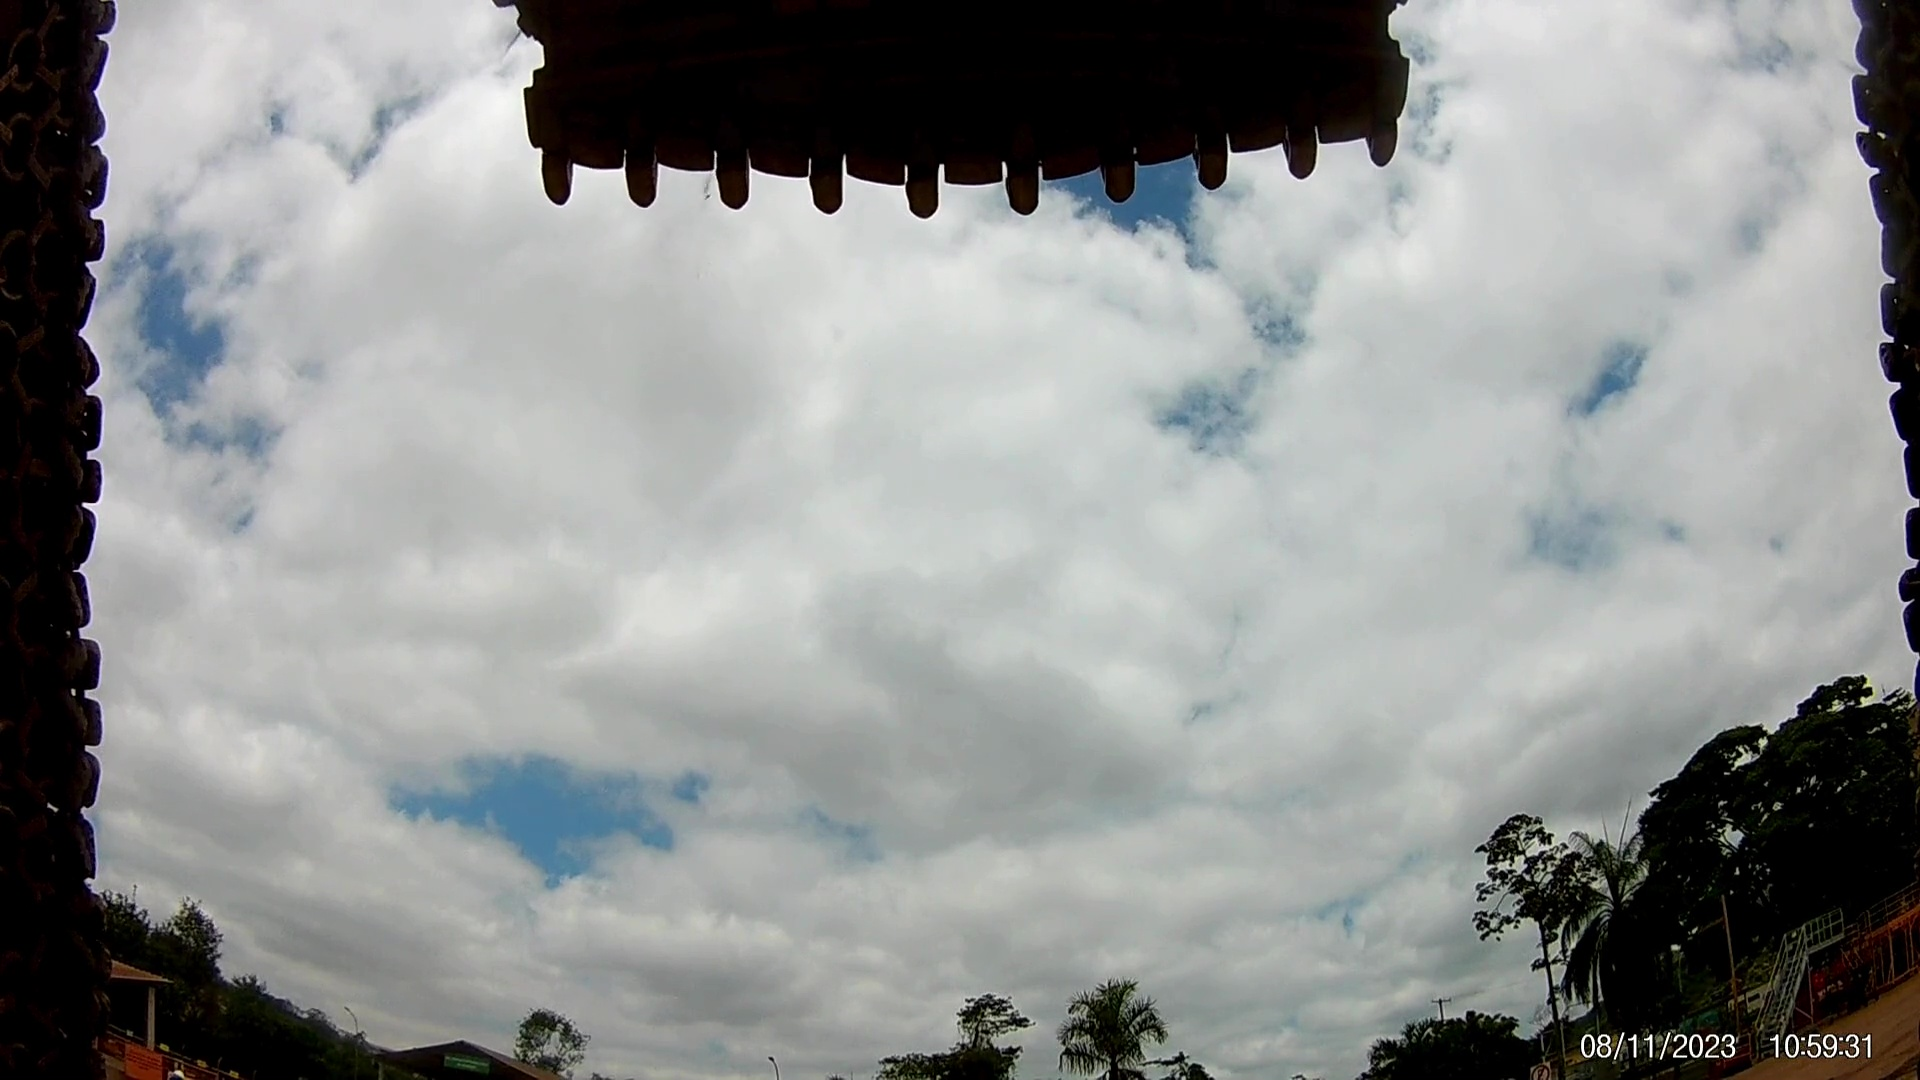FPS: (608, 148, 688, 222), (885, 157, 956, 225), (789, 153, 861, 219), (1187, 123, 1261, 186), (512, 156, 593, 212), (1270, 109, 1327, 185), (711, 145, 764, 219), (1361, 115, 1418, 169), (997, 169, 1056, 219), (1097, 131, 1137, 203)
